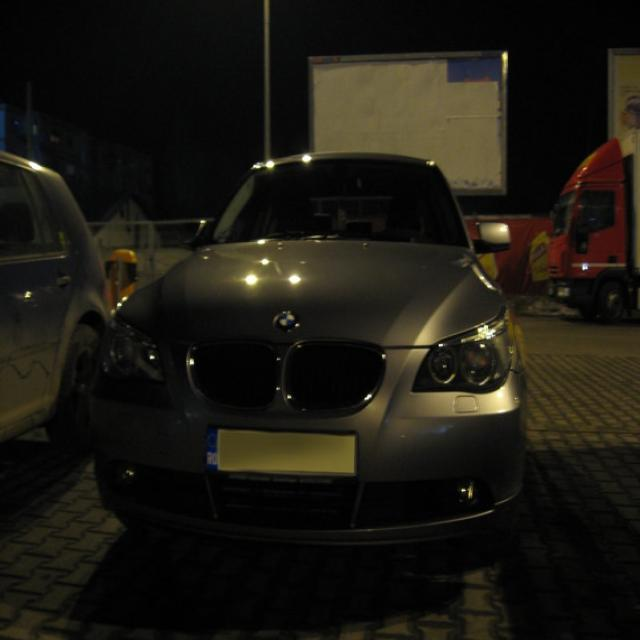Car: (84, 108, 512, 585)
